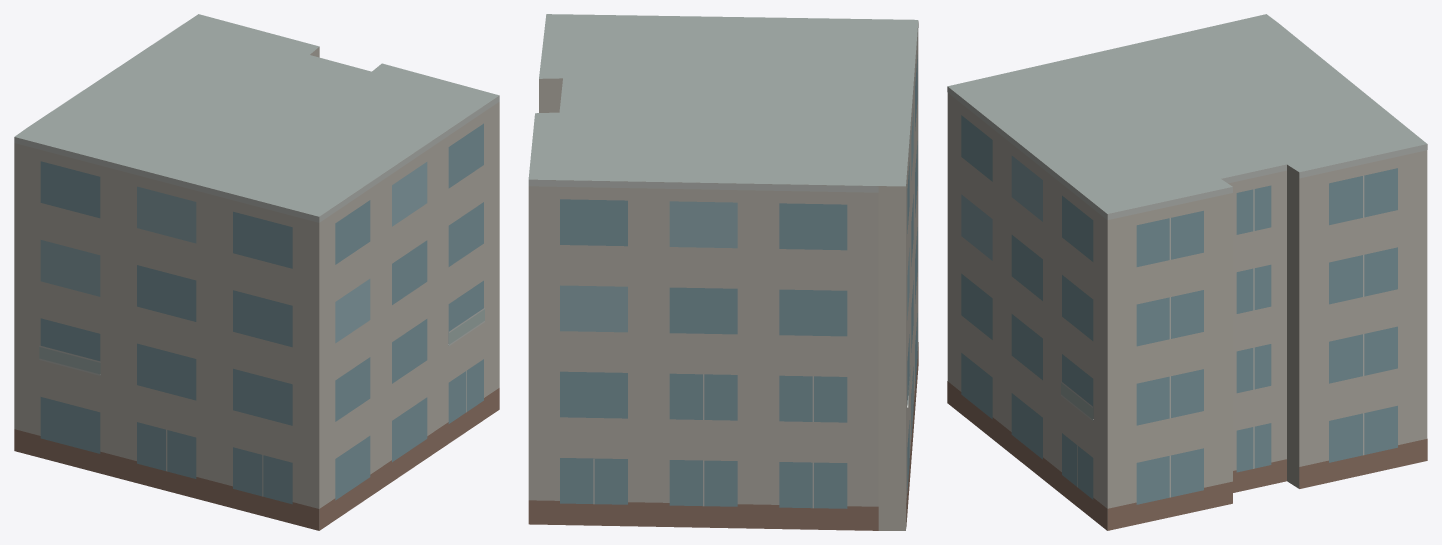
Rendered from survey-upis-32689718.glb.
3 renders of one model, left to right at view 1: azimuth 30°, elevation 25°; view 2: azimuth 150°, elevation 25°; view 3: azimuth 270°, elevation 25°, orthographic. The views are drawn at different scales.
Visible parts, largest first — view 1: survey-upis-32689718.tmp; view 2: survey-upis-32689718.tmp; view 3: survey-upis-32689718.tmp.
Part boxes in pixels (x1,y1,x2,y2): survey-upis-32689718.tmp: (14,14,499,530); survey-upis-32689718.tmp: (528,14,918,530); survey-upis-32689718.tmp: (947,14,1427,530).
Bounding box in the file's own units: 17.08 × 12.6 × 17.31.
